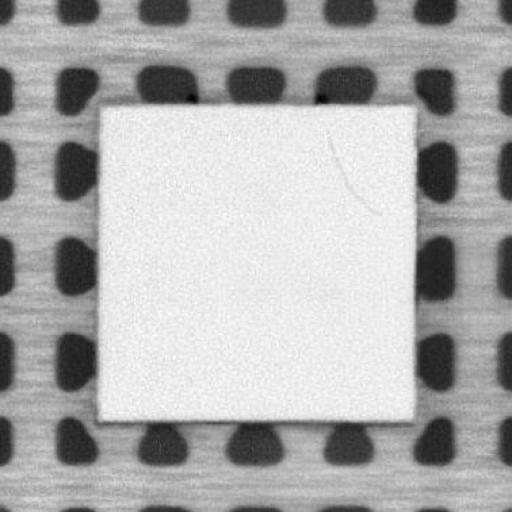DIE_CRACK: (321, 130, 382, 214)
